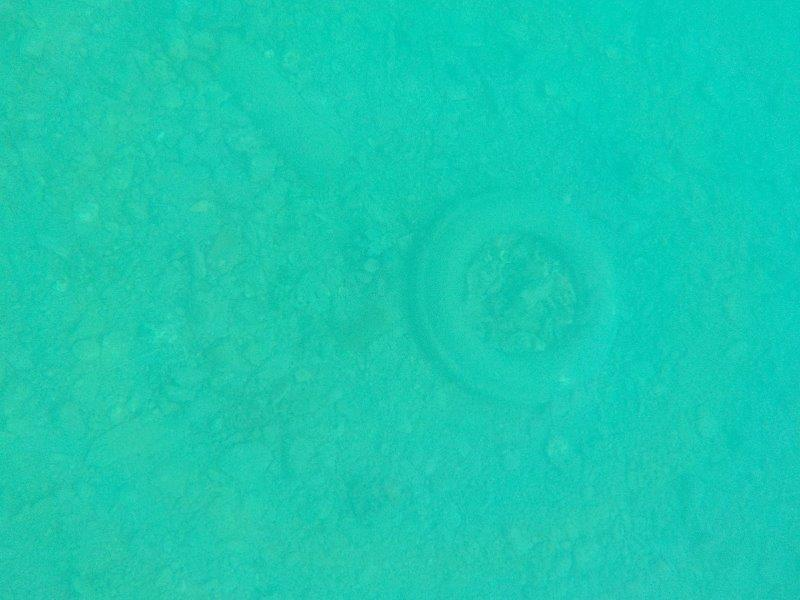tire: (408, 182, 625, 415)
